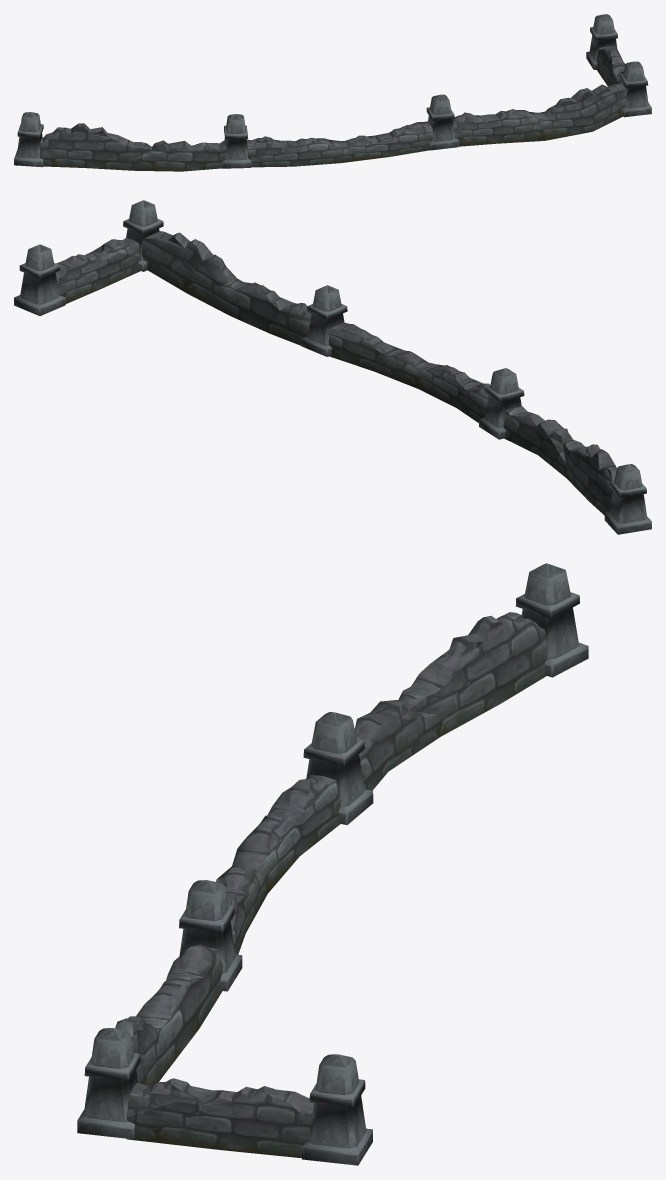
The model's file is object_stonewalls03.fbx.
3 views of the same model, one above another, from view 1: azimuth 30°, elevation 25°; view 2: azimuth 150°, elevation 25°; view 3: azimuth 270°, elevation 25° (orthographic). The views are drawn at different scales.
Parts seen in each view (by area): view 1: object_stonewalls03-0; view 2: object_stonewalls03-0; view 3: object_stonewalls03-0.
Part boxes in pixels (box(x1,y1,x2,y2)): object_stonewalls03-0: box(14, 14, 651, 171); object_stonewalls03-0: box(14, 200, 651, 534); object_stonewalls03-0: box(77, 563, 588, 1165).
Bounding box in the file's own units: 26.41 × 2.8 × 10.56.
